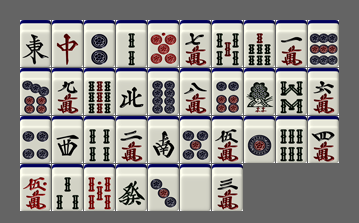0m: (20, 164, 51, 211)
0p: (148, 20, 179, 67)
0s: (84, 164, 115, 211)
1m: (276, 20, 307, 67)
1p: (244, 116, 275, 163)
1s: (244, 68, 275, 115)
1z: (20, 20, 51, 67)
2m: (116, 116, 147, 163)
2p: (84, 20, 115, 67)
2s: (116, 20, 147, 67)
2z: (148, 116, 179, 163)
3m: (212, 164, 243, 211)
3p: (148, 164, 179, 211)
3s: (52, 164, 83, 211)
3z: (52, 116, 83, 163)
4m: (308, 116, 339, 163)
4p: (20, 116, 51, 163)
4s: (84, 116, 115, 163)
4z: (116, 68, 147, 115)
5m: (212, 116, 243, 163)
5p: (180, 116, 211, 163)
5s: (212, 20, 243, 67)
5z: (180, 164, 211, 211)
6m: (308, 68, 339, 115)
6p: (212, 68, 243, 115)
6s: (276, 116, 307, 163)
6z: (116, 164, 147, 211)
7m: (180, 20, 211, 67)
7p: (20, 68, 51, 115)
7s: (244, 20, 275, 67)
7z: (52, 20, 83, 67)
8m: (180, 68, 211, 115)
8p: (148, 68, 179, 115)
8s: (276, 68, 307, 115)
9m: (52, 68, 83, 115)
9p: (308, 20, 339, 67)
9s: (84, 68, 115, 115)
